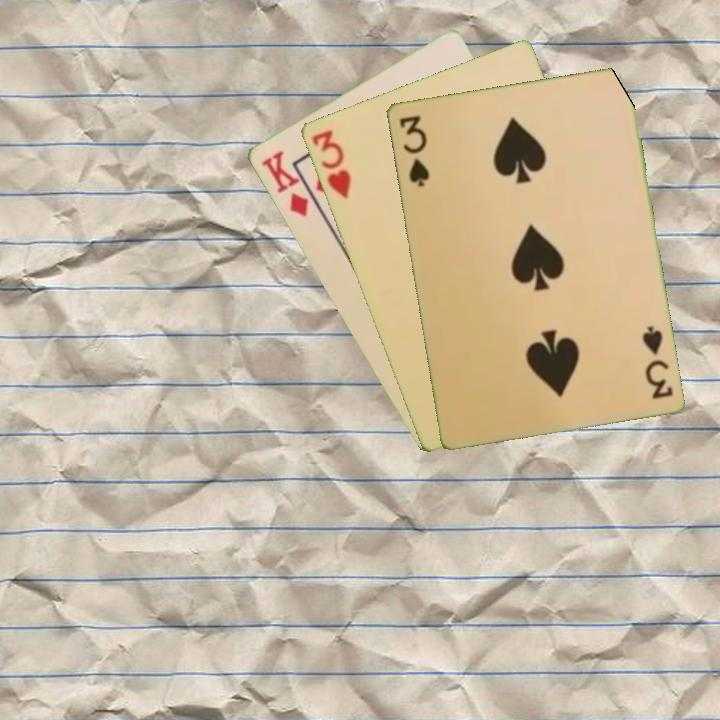3h: (307, 126, 354, 202)
3s: (638, 322, 675, 402), (395, 111, 432, 190)
Kd: (257, 147, 311, 220)
